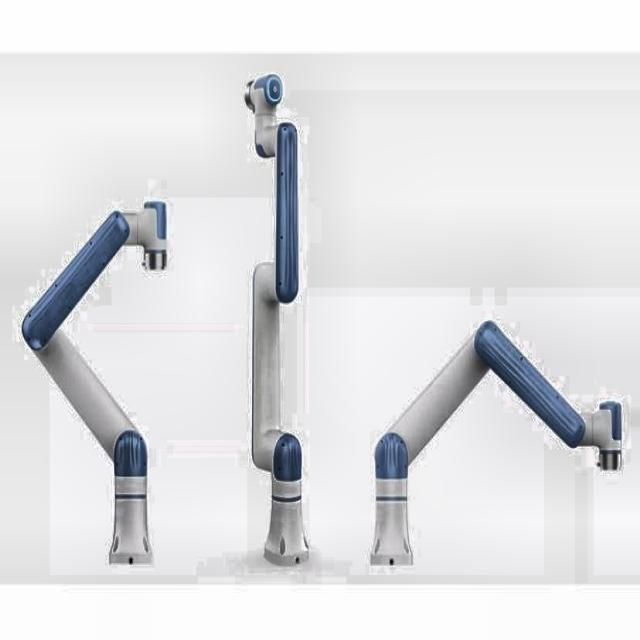robot: (369, 318, 622, 566), (21, 199, 168, 565), (243, 72, 309, 566)
